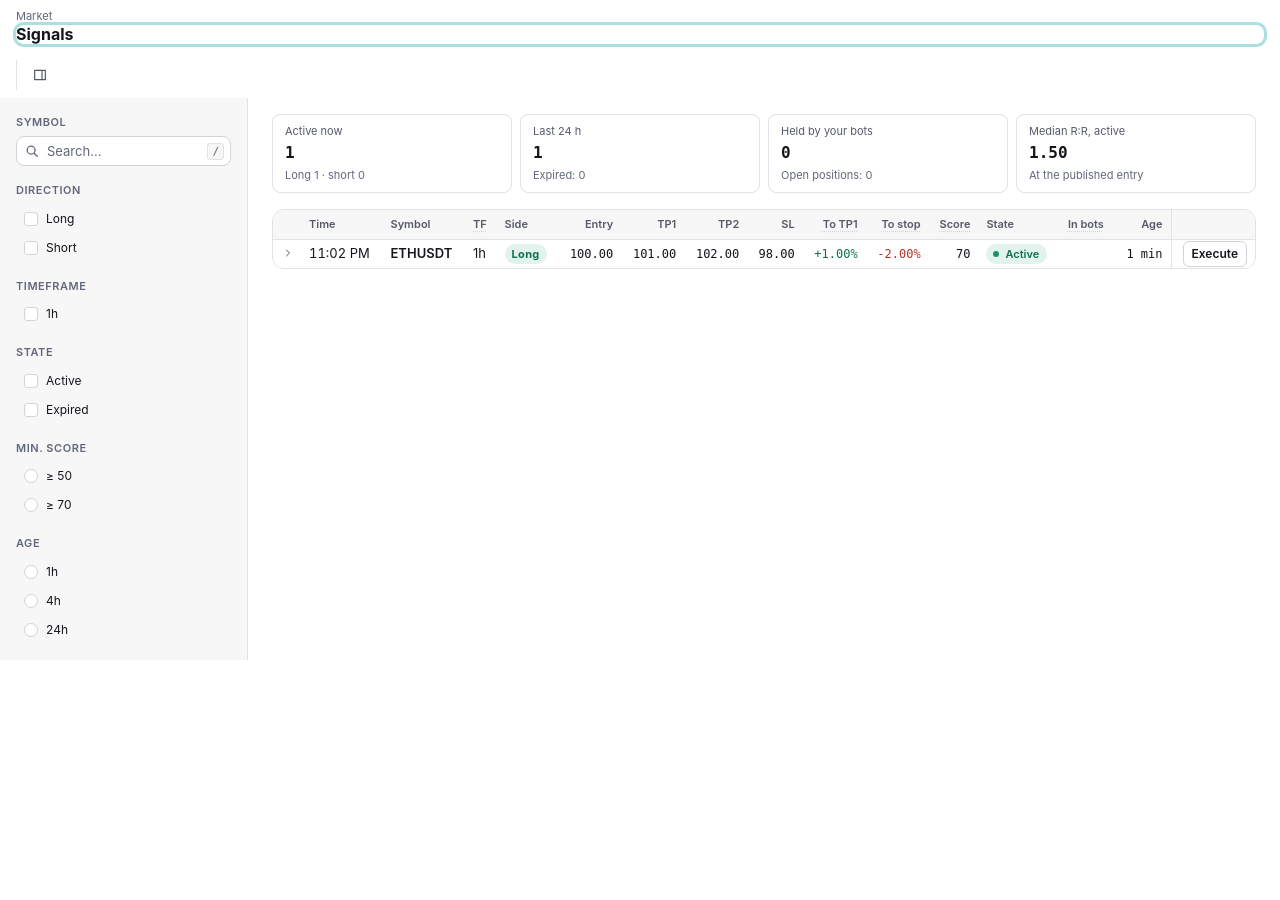
Test: Execute on the Signals page › warns when the reward:risk at the fill is below 0.5
The image size is (1280, 900).
Click the button "Execute" at (1215, 254), box [1182,241,1247,267]
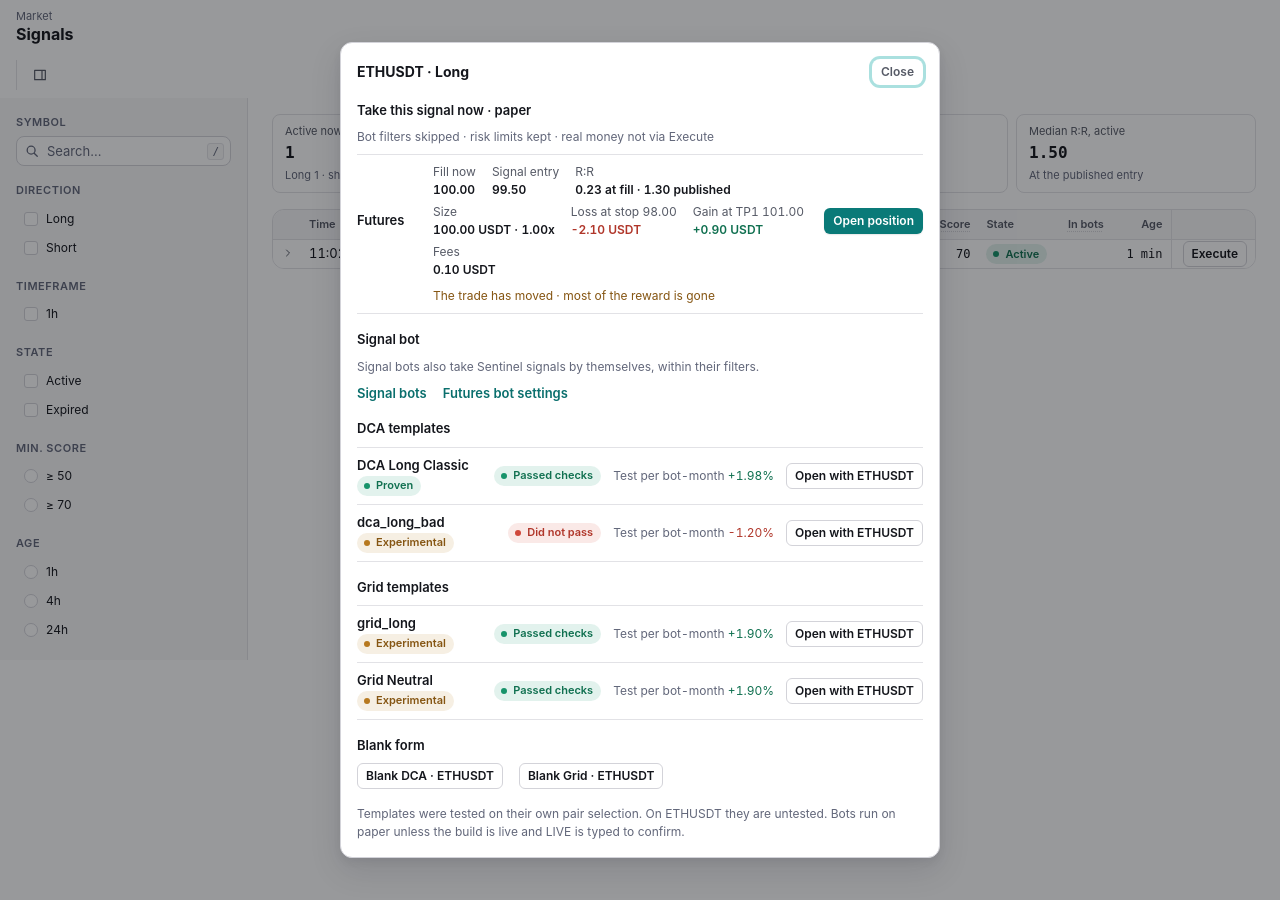
Result: the text "The trade has moved · most of the reward is gone" is shown at [433,288,715,303]
